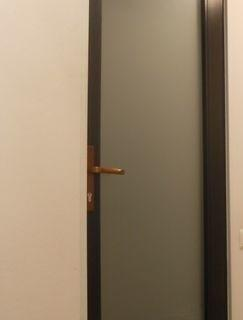door: (89, 0, 226, 320)
